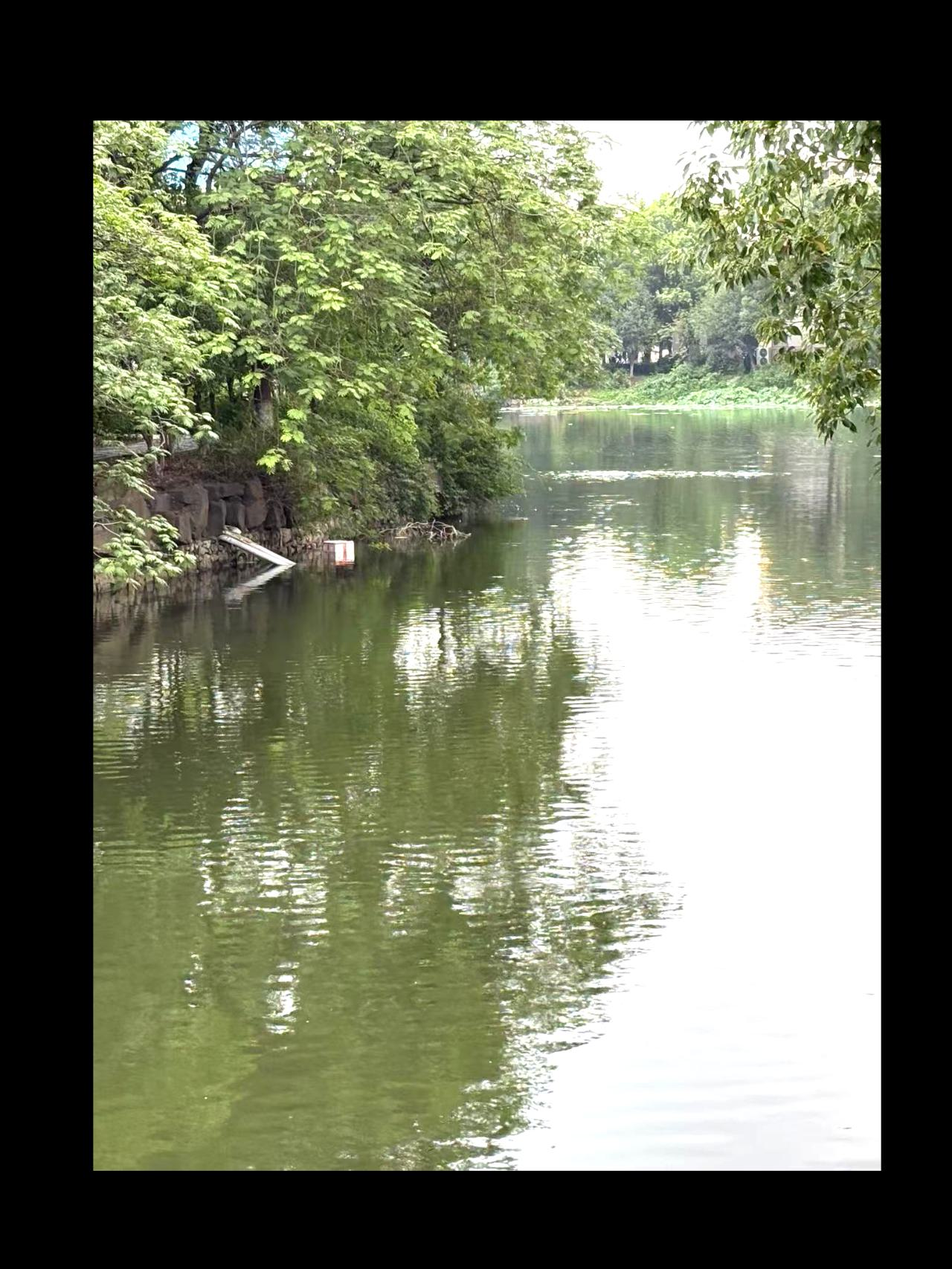Plastic wastes: (321, 535, 355, 567)
